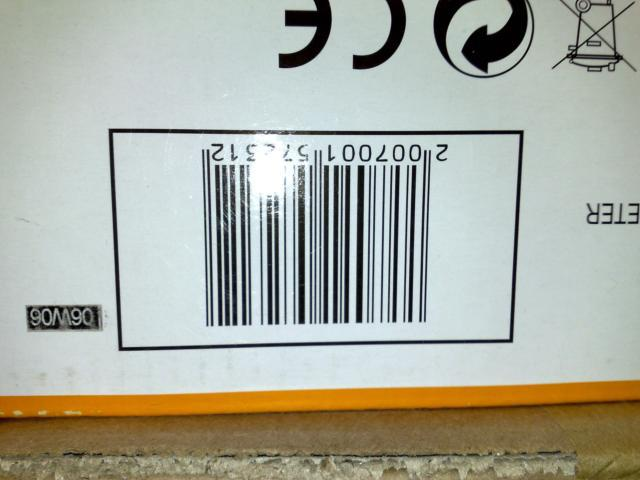Barkod: (198, 162, 432, 328)
